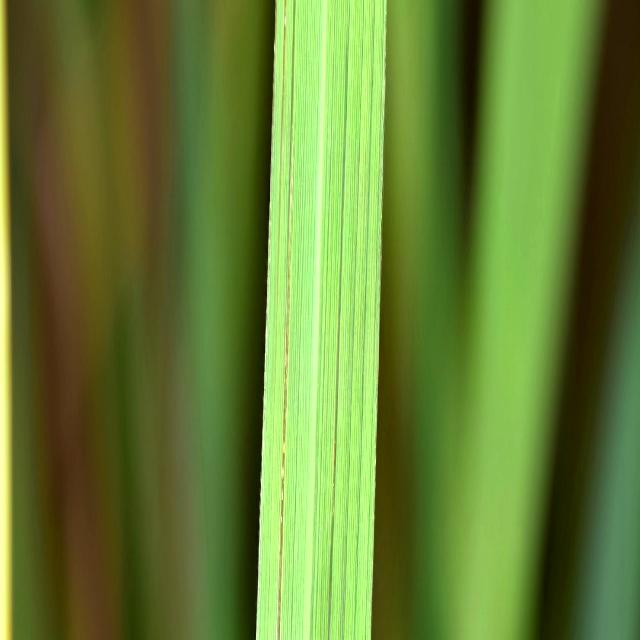BLS: (328, 36, 349, 640), (277, 0, 295, 640), (278, 0, 287, 268)
